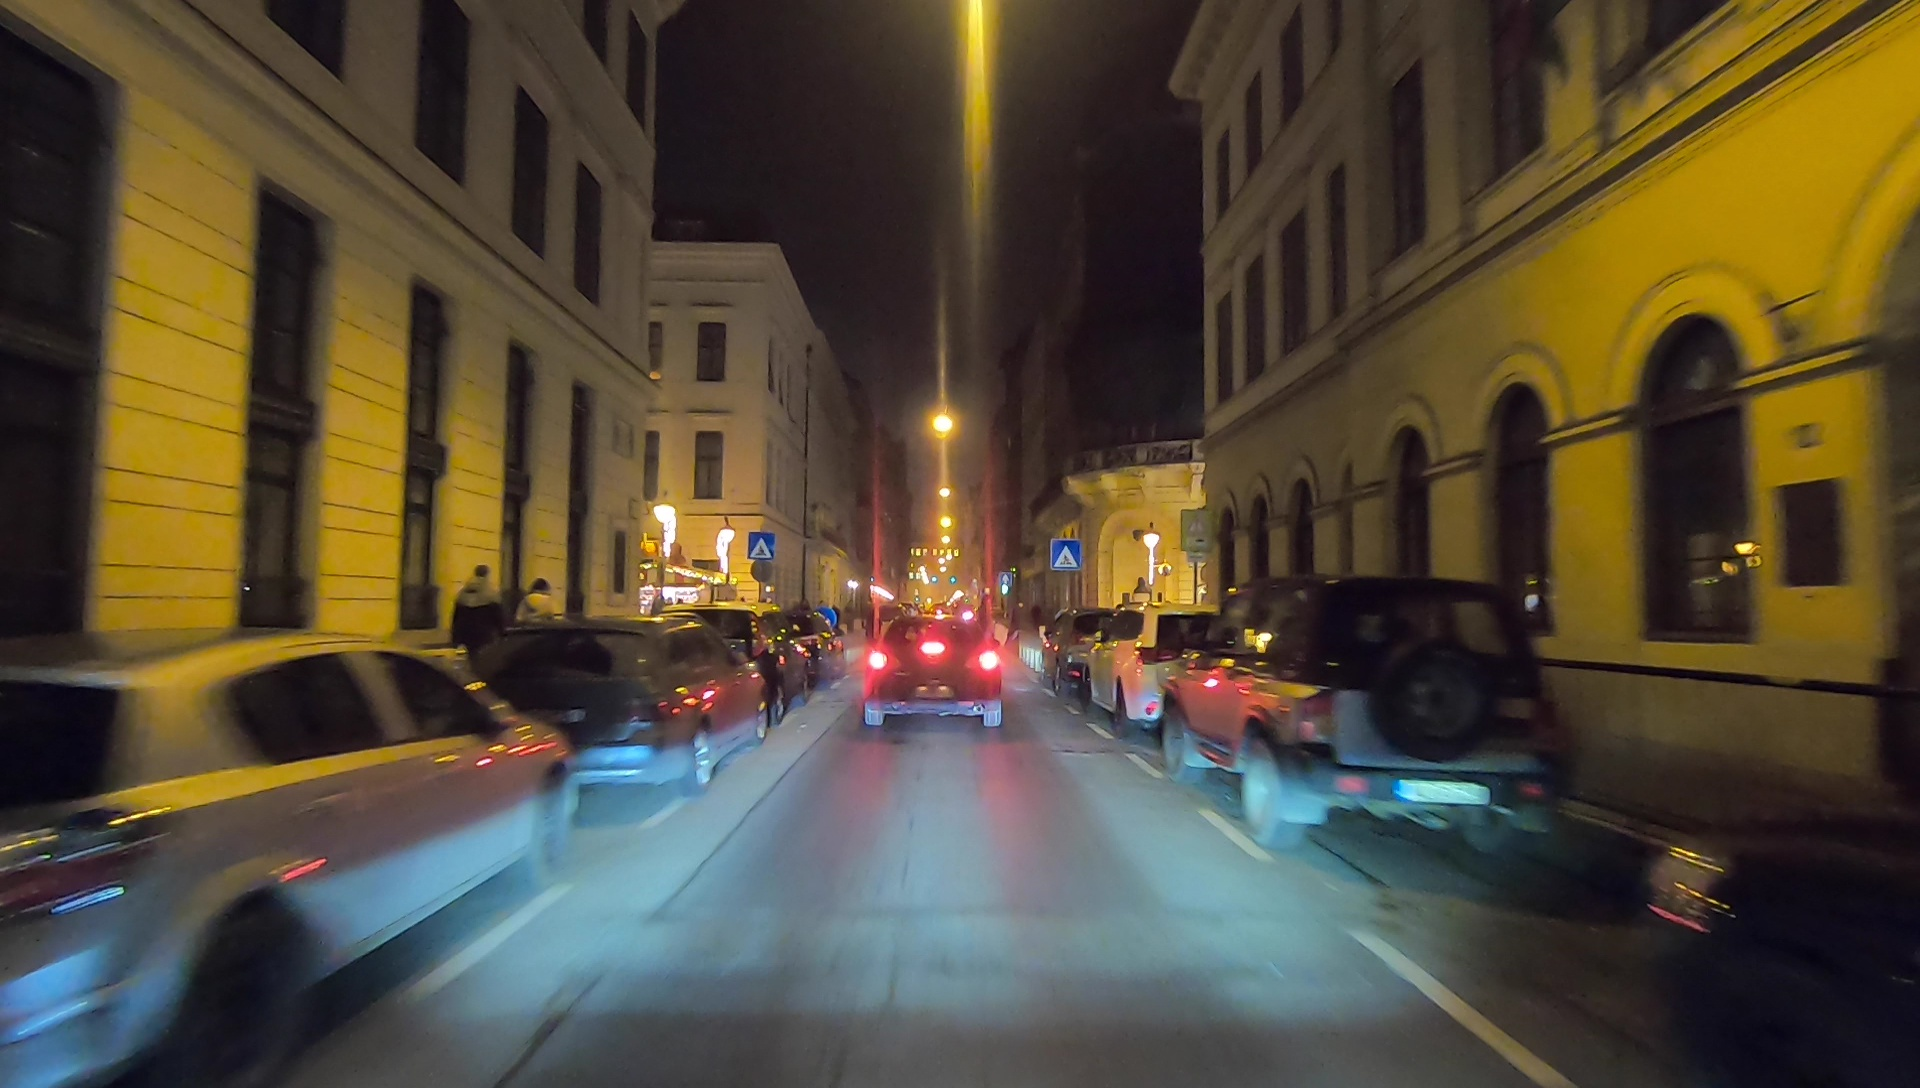person: (454, 569, 502, 676), (515, 578, 554, 678)
